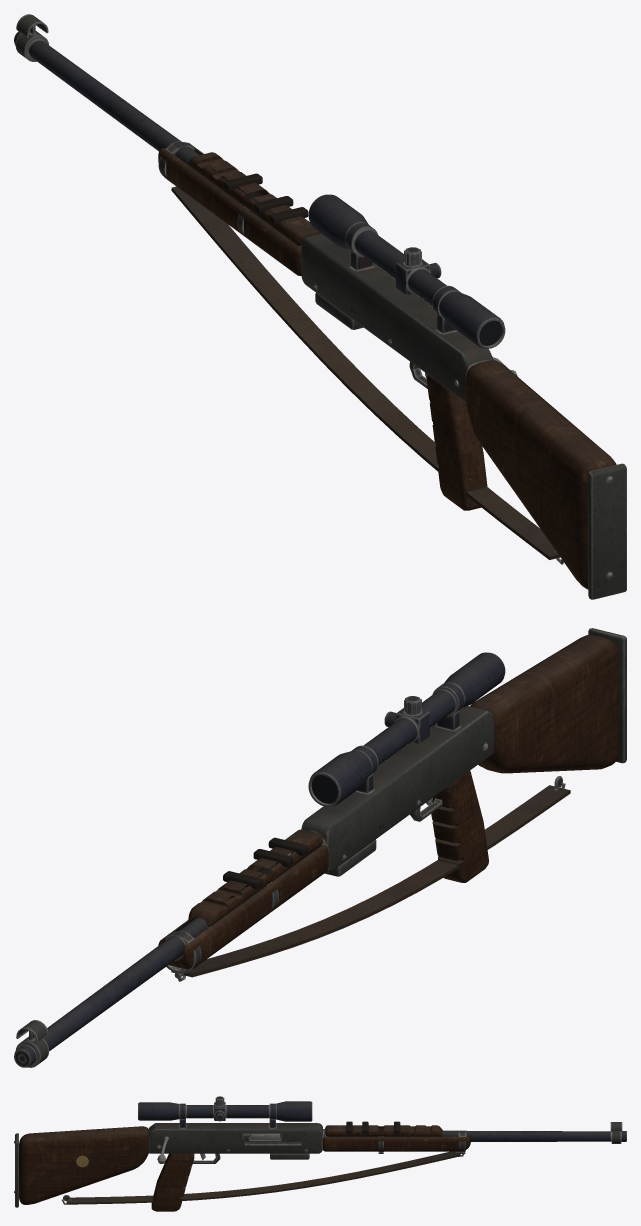
Rendered from cadet_high_power_rifle.glb.
3 views of the same model, one above another, from view 1: azimuth 30°, elevation 25°; view 2: azimuth 150°, elevation 25°; view 3: azimuth 270°, elevation 25° (orthographic). The views are drawn at different scales.
Parts seen in each view (by area): view 1: cadet_high_power_rifle; view 2: cadet_high_power_rifle; view 3: cadet_high_power_rifle.
Boxes of the visible parts, left/top/right/bottom form: cadet_high_power_rifle: left=14, top=14, right=626, bottom=599; cadet_high_power_rifle: left=14, top=628, right=626, bottom=1067; cadet_high_power_rifle: left=14, top=1096, right=626, bottom=1211.
Size of the model in its own units: 0.0775 by 0.2325 by 1.16.
1 material, 1 textured.
